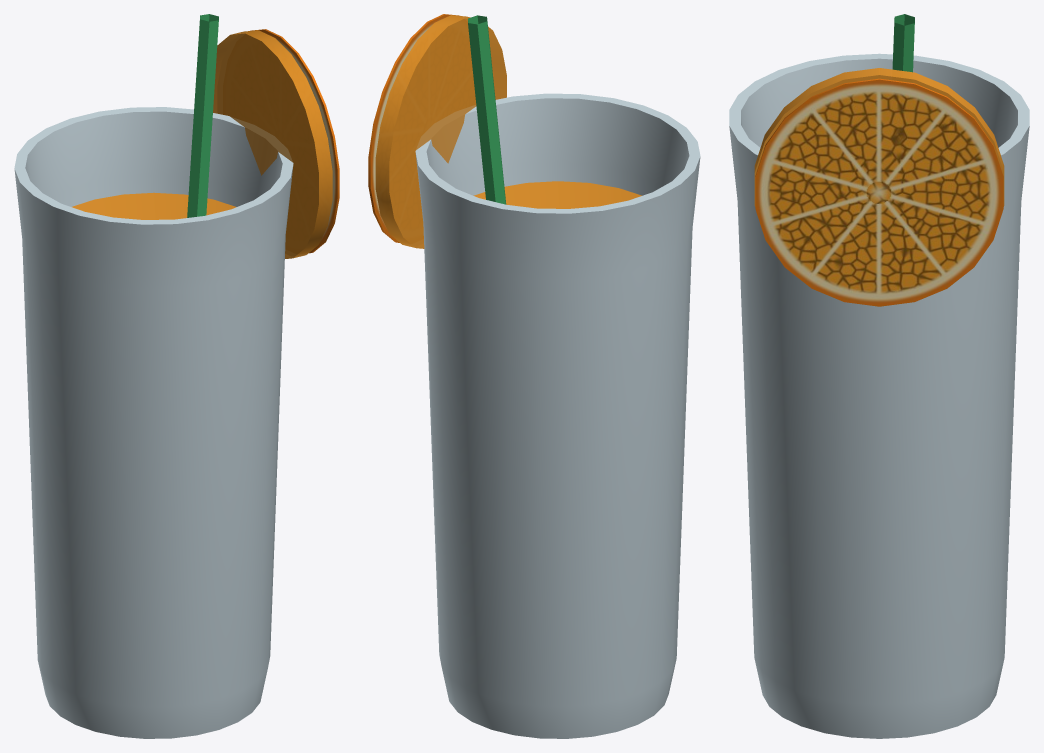
Rendered from drink_orange_juice_glass.glb.
3 views of the same model, side by side, from view 1: azimuth 30°, elevation 25°; view 2: azimuth 150°, elevation 25°; view 3: azimuth 270°, elevation 25° (orthographic). The views are drawn at different scales.
Parts seen in each view (by area): view 1: drink_orange_juice_glass; view 2: drink_orange_juice_glass; view 3: drink_orange_juice_glass.
Boxes of the visible parts, left/top/right/bottom form: drink_orange_juice_glass: left=14, top=14, right=339, bottom=738; drink_orange_juice_glass: left=368, top=14, right=700, bottom=738; drink_orange_juice_glass: left=729, top=14, right=1029, bottom=738.
Bounding box in the file's own units: 0.0742 × 0.1852 × 0.0715.
4 materials, 1 textured.
